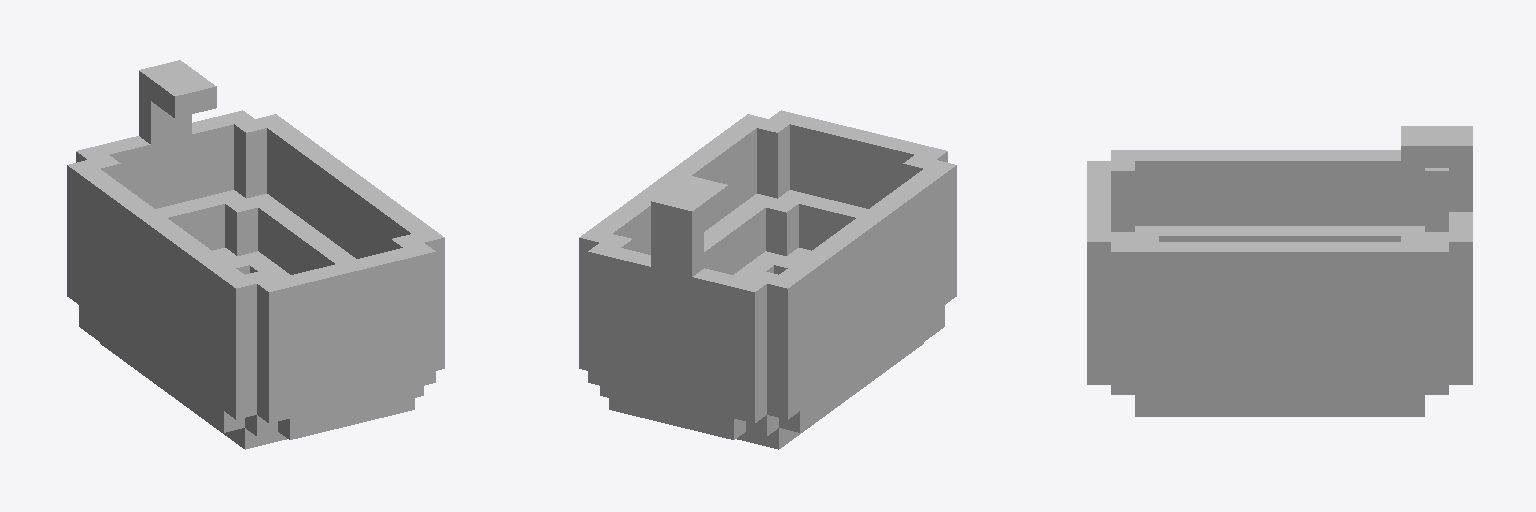
Rendered from Bathtub.obj.
3 views of the same model, side by side, from view 1: azimuth 30°, elevation 25°; view 2: azimuth 150°, elevation 25°; view 3: azimuth 270°, elevation 25° (orthographic).
Visible parts, largest first — view 1: Bathtub; view 2: Bathtub; view 3: Bathtub.
Boxes of the visible parts, box(x1,y1,x2,y2) form: Bathtub: box(67, 60, 444, 449); Bathtub: box(579, 110, 956, 449); Bathtub: box(1087, 126, 1472, 416).
Size of the model in its own units: 10 by 11 by 16.